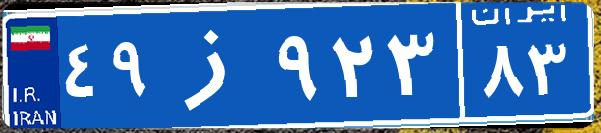2: (330, 28, 385, 110)
3: (385, 28, 445, 110), (525, 38, 570, 115)
4: (57, 26, 110, 107)
8: (475, 38, 525, 113)
9: (273, 28, 330, 110), (110, 28, 158, 105)
ز: (158, 15, 273, 115)
